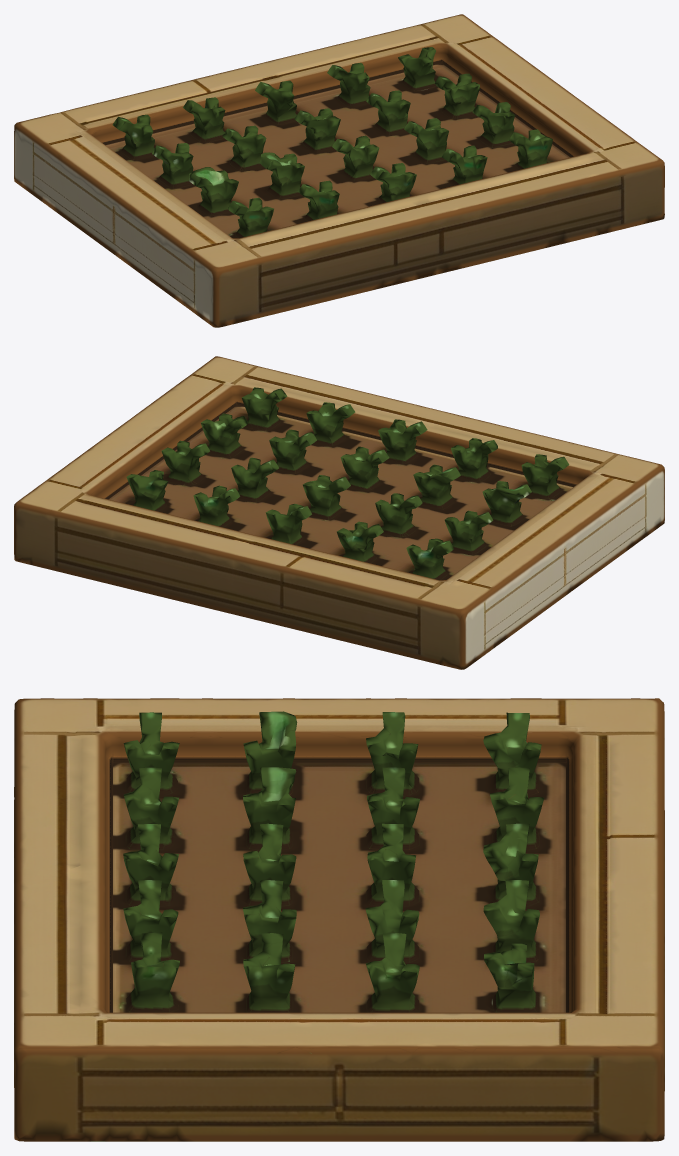
File: garden_plot.fbx
3 views of the same model, one above another, from view 1: azimuth 30°, elevation 25°; view 2: azimuth 150°, elevation 25°; view 3: azimuth 270°, elevation 25° (orthographic). The views are drawn at different scales.
Parts seen in each view (by area): view 1: GardenPlanter; view 2: GardenPlanter; view 3: GardenPlanter.
Boxes of the visible parts, <box> form: GardenPlanter: <box>14,14,664,327</box>; GardenPlanter: <box>14,356,664,669</box>; GardenPlanter: <box>14,698,664,1141</box>.
Bounding box in the file's own units: 717 × 120 × 559.
1 material, 1 textured.
